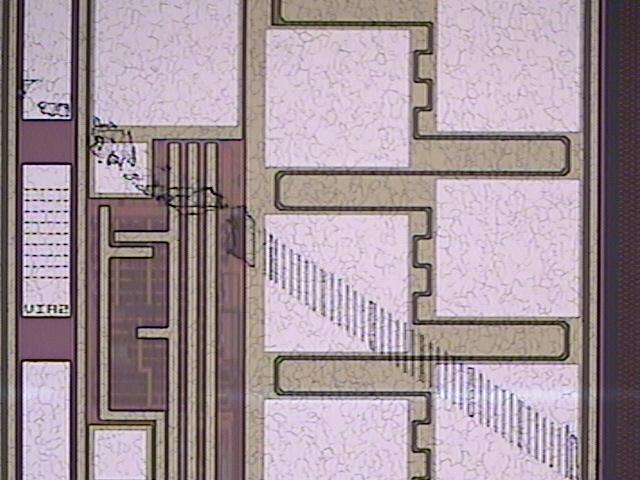SCRATCH: (18, 74, 583, 480)
